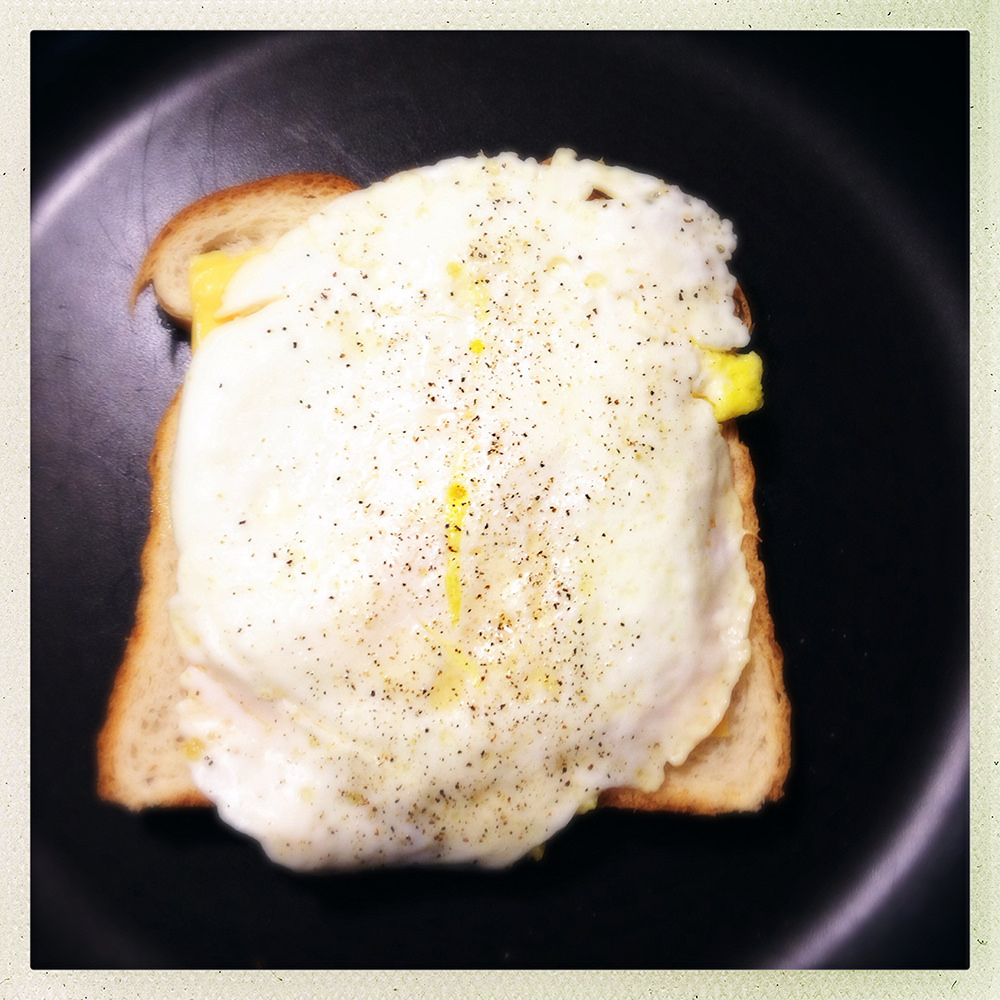fried egg: (196, 200, 739, 809)
